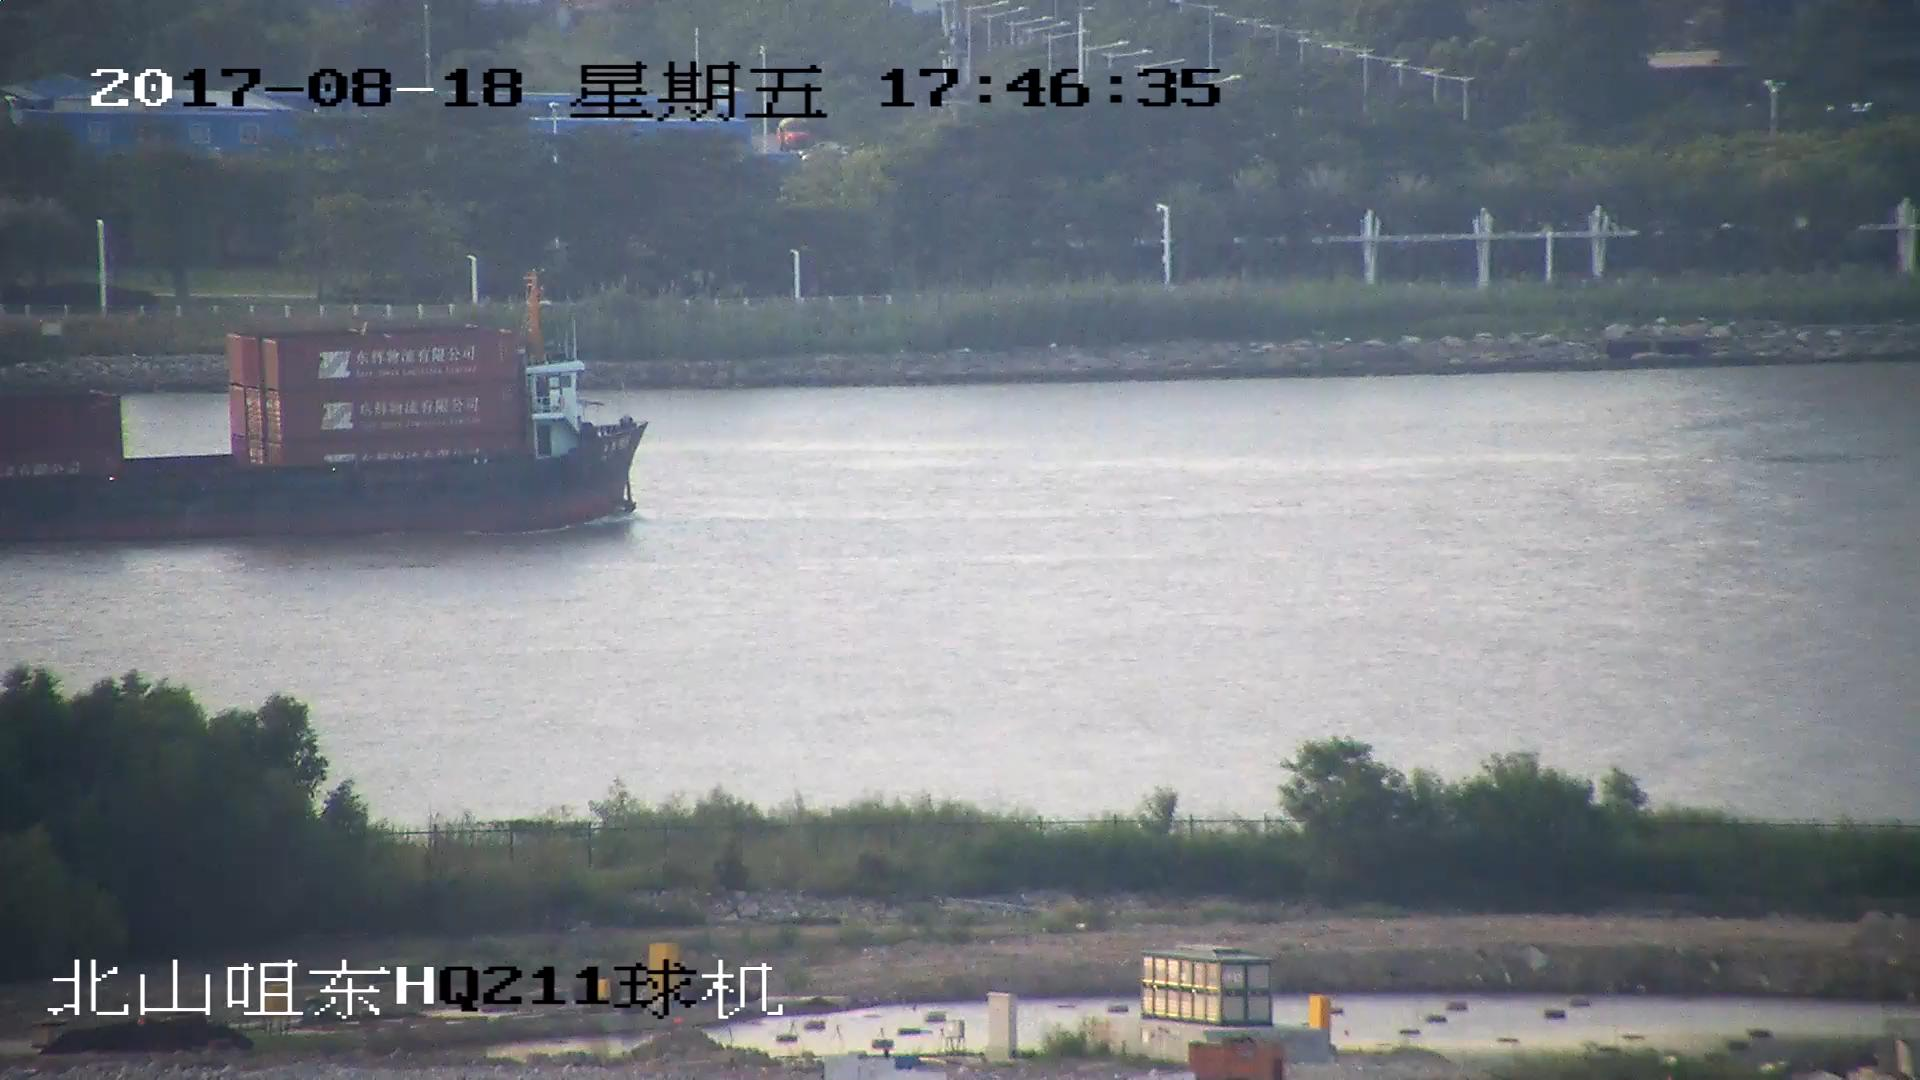container ship: (1, 269, 652, 535)
